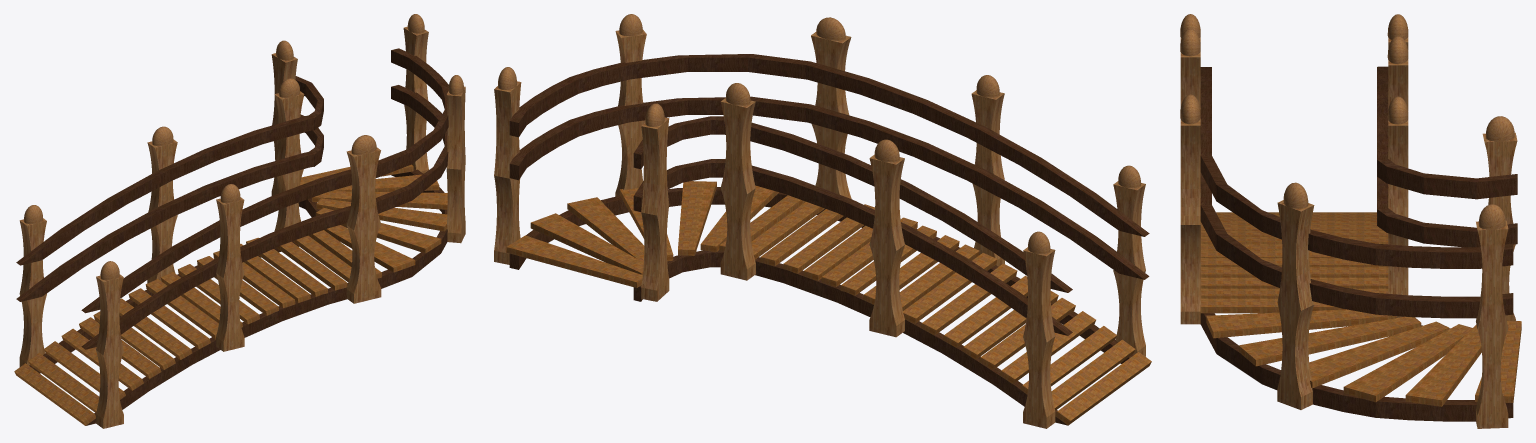
Rendered from gölüstü.dae.
3 renders of one model, left to right at view 1: azimuth 30°, elevation 25°; view 2: azimuth 150°, elevation 25°; view 3: azimuth 270°, elevation 25°, orthographic. The views are drawn at different scales.
Parts seen in each view (by area): view 1: group_26 (×3), group_25 (×2), group_4 (×2), group_32, group_30, group_29, group_33, group_27, group_35, group_36, group_34, group_0 (+23 smaller); view 2: group_26 (×3), group_25 (×3), group_4 (×3), group_35, group_36, group_27, group_37, group_34, group_29, group_32, group_30, group_33 (+24 smaller); view 3: group_26 (×3), group_25 (×3), group_33, group_34, group_4, group_32, group_28 (×7), group_22, group_21, group_20, group_19, group_23 (+19 smaller).
Boxes of the visible parts, bbox=[...] form: group_26 (×3): bbox=[16, 48, 448, 313]; group_25 (×2): bbox=[16, 85, 448, 349]; group_4 (×2): bbox=[29, 169, 447, 425]; group_32: bbox=[346, 147, 381, 303]; group_30: bbox=[216, 197, 244, 351]; group_29: bbox=[96, 274, 123, 428]; group_33: bbox=[446, 86, 465, 243]; group_27: bbox=[19, 218, 46, 366]; group_35: bbox=[147, 139, 177, 283]; group_36: bbox=[274, 91, 304, 231]; group_34: bbox=[403, 26, 428, 173]; group_0: bbox=[14, 363, 95, 425]; group_26 (×3): bbox=[509, 54, 1149, 292]; group_25 (×3): bbox=[509, 96, 1149, 335]; group_4 (×3): bbox=[509, 187, 1134, 425]; group_35: bbox=[869, 154, 904, 337]; group_36: bbox=[720, 98, 755, 280]; group_27: bbox=[1023, 247, 1055, 428]; group_37: bbox=[641, 117, 669, 301]; group_34: bbox=[494, 81, 521, 264]; group_29: bbox=[1113, 181, 1145, 356]; group_32: bbox=[811, 32, 851, 198]; group_30: bbox=[971, 90, 1004, 266]; group_33: bbox=[615, 29, 646, 196]; group_26 (×3): bbox=[1200, 66, 1517, 268]; group_25 (×3): bbox=[1200, 172, 1517, 318]; group_33: bbox=[1277, 200, 1314, 409]; group_34: bbox=[1476, 220, 1508, 428]; group_4: bbox=[1200, 313, 1513, 421]; group_32: bbox=[1180, 108, 1200, 324]; group_28 (×7): bbox=[1180, 14, 1514, 229]; group_22: bbox=[1343, 324, 1474, 402]; group_21: bbox=[1309, 321, 1449, 388]; group_20: bbox=[1238, 316, 1421, 366]; group_19: bbox=[1206, 309, 1396, 338]; group_23: bbox=[1405, 324, 1481, 406].
Size of the model in its own units: 566 by 276 by 275.
